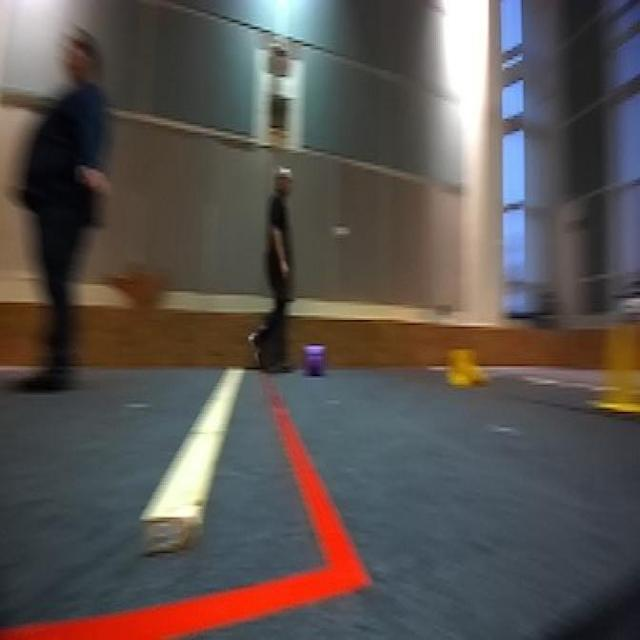frc_cone: (587, 323, 640, 416), (452, 349, 494, 390)
frc_cube: (305, 346, 325, 376)
